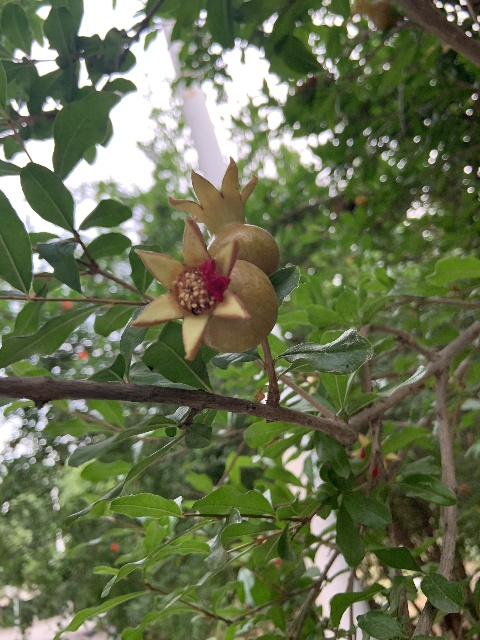early-fruit: (130, 219, 279, 362), (168, 156, 278, 272)
